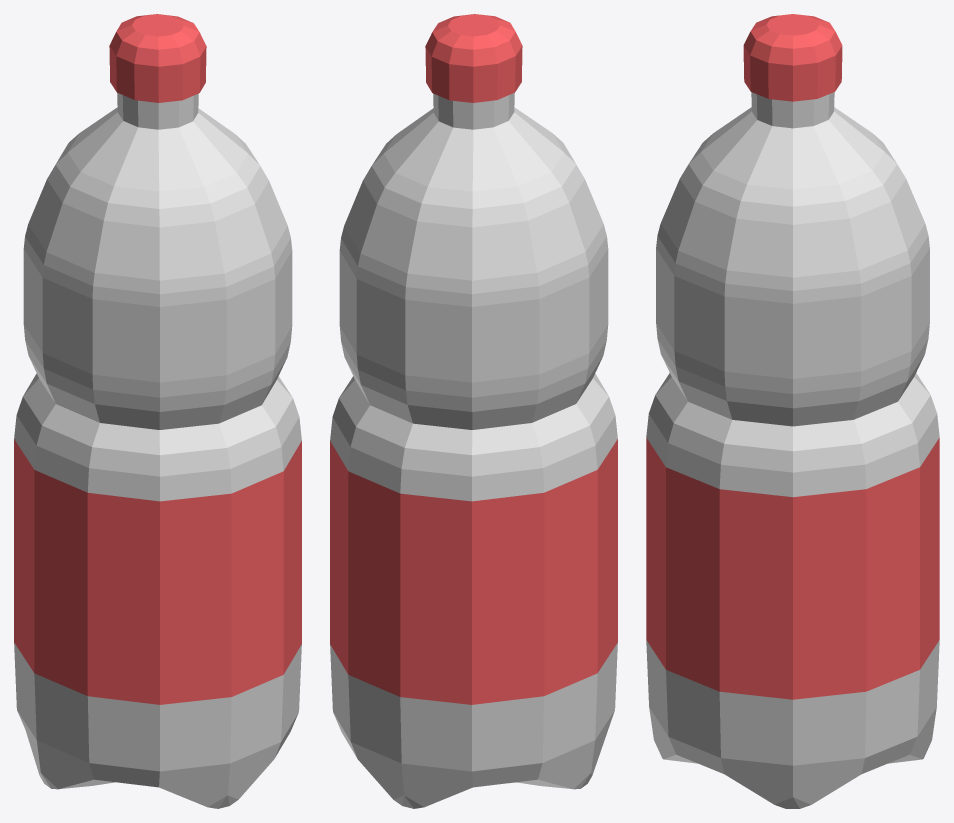
Rendered from soda.fbx.
The picture shows the model from 3 angles, left to right: view 1: azimuth 30°, elevation 25°; view 2: azimuth 150°, elevation 25°; view 3: azimuth 270°, elevation 25°; orthographic projection.
Visible parts, largest first — view 1: Cylinder.002; view 2: Cylinder.002; view 3: Cylinder.002.
Part boxes in pixels (x1,y1,x2,y2): Cylinder.002: (14, 14, 301, 808); Cylinder.002: (330, 14, 617, 808); Cylinder.002: (646, 14, 939, 808).
Bounding box in the file's own units: 52.25 × 149 × 53.97.
